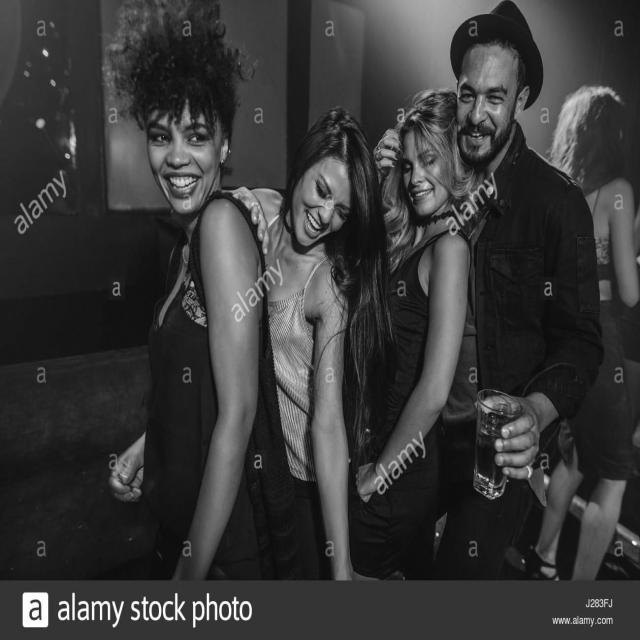person: (384, 74, 612, 568), (95, 41, 281, 620), (420, 28, 582, 561), (233, 52, 378, 628), (564, 75, 631, 600)
